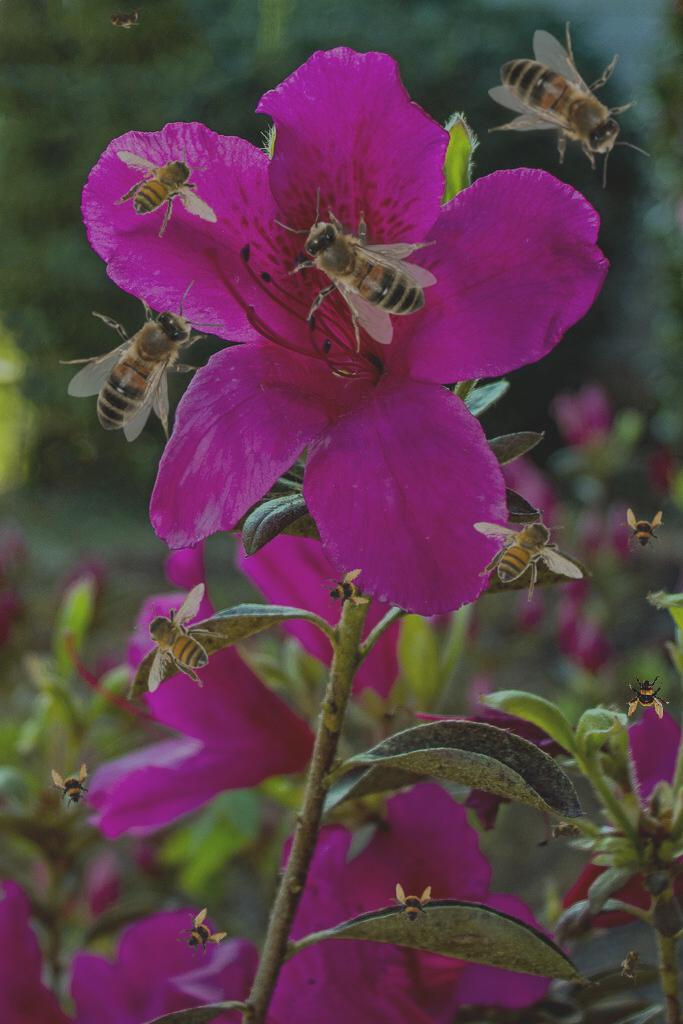Bee: (273, 185, 438, 355), (488, 21, 650, 188), (59, 280, 226, 442), (104, 135, 229, 247), (473, 508, 584, 602), (134, 582, 228, 693), (168, 901, 232, 965), (317, 561, 373, 617), (43, 759, 99, 815), (626, 675, 670, 719), (389, 883, 433, 927), (620, 508, 664, 552), (615, 940, 651, 986), (103, 7, 143, 29), (547, 821, 587, 843)
